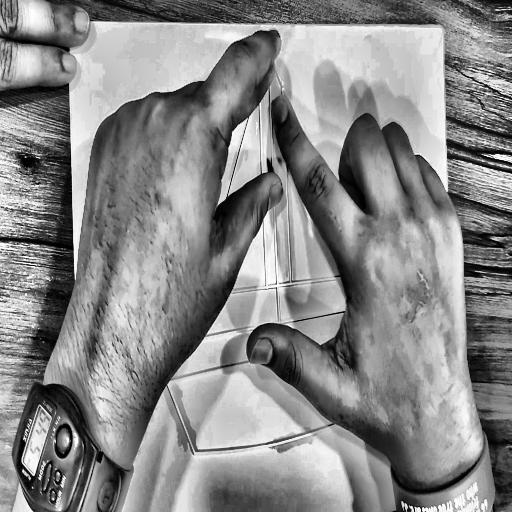boat: (134, 22, 426, 474)
top_left: (67, 17, 72, 27)
top_right: (438, 22, 446, 36)
